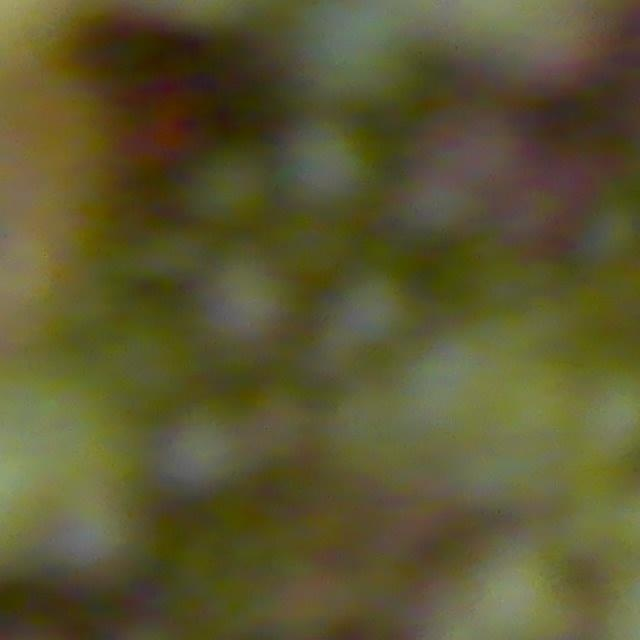SeaGrape: (287, 0, 411, 109), (278, 114, 385, 217), (197, 254, 299, 349), (160, 404, 256, 494), (331, 265, 421, 351), (187, 144, 273, 232), (398, 165, 484, 245)
